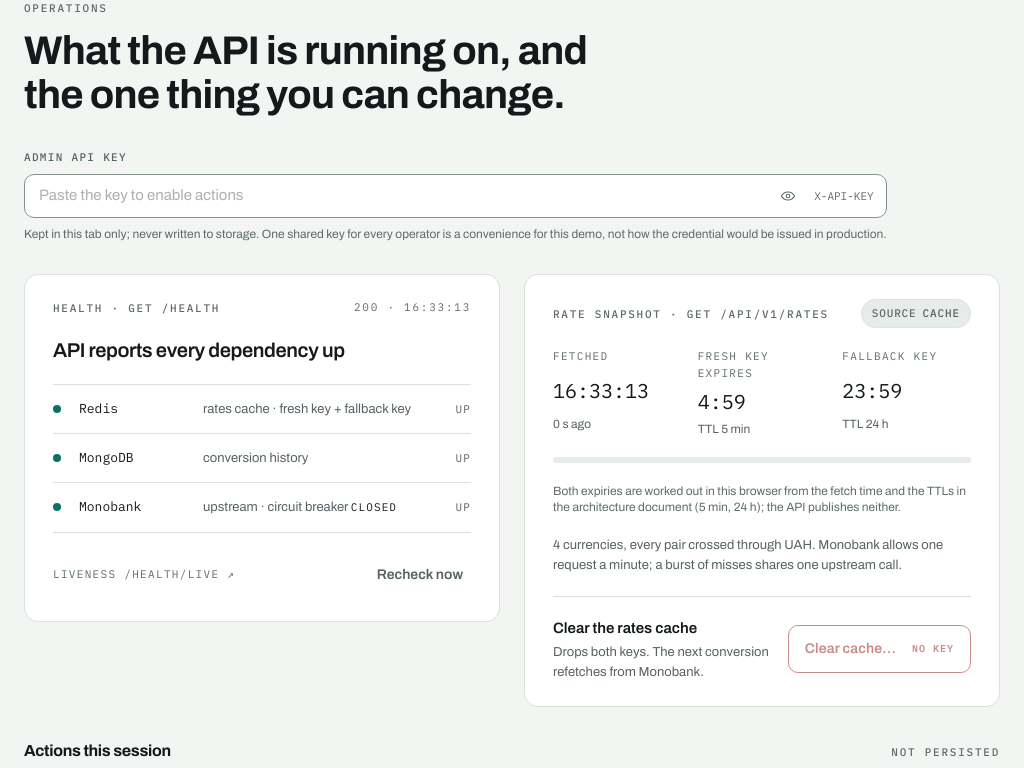
it: OpsPage clear-cache dialog › confirms before it sends, with focus on Cancel and the key masked
Type "super-secret-admin-key" into the password field labelled "Admin API key" at (401,196), box x1=39 y1=175 x2=762 y2=217
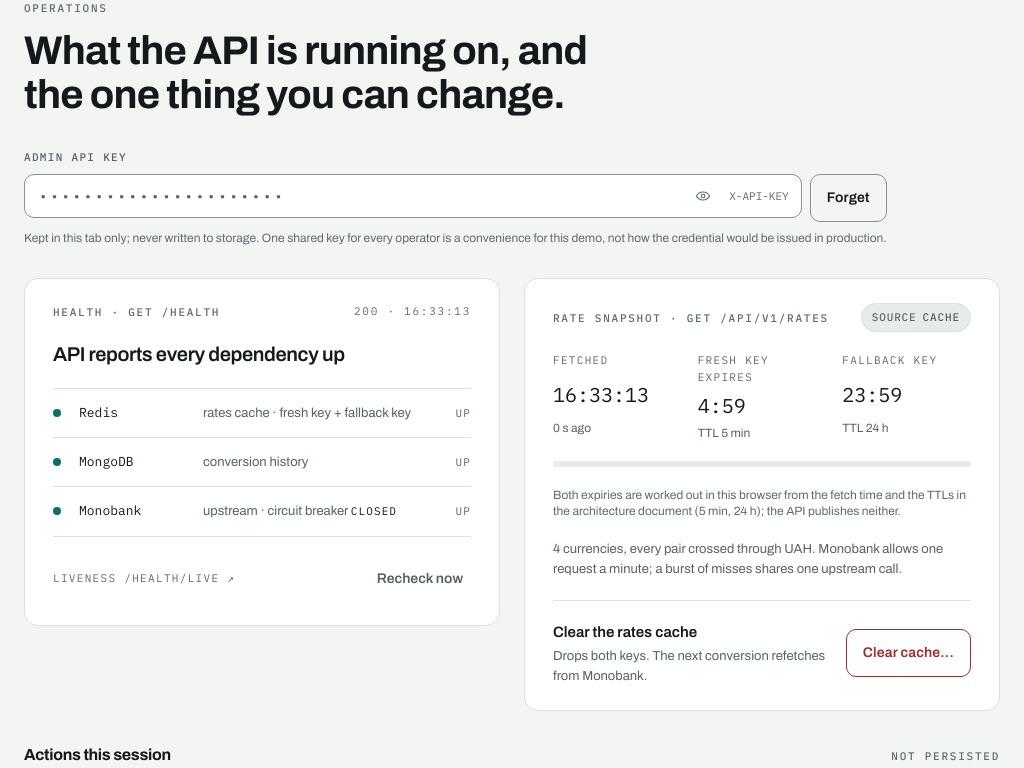
Click the button "Clear cache…" at (908,653), box x1=846 y1=629 x2=971 y2=677
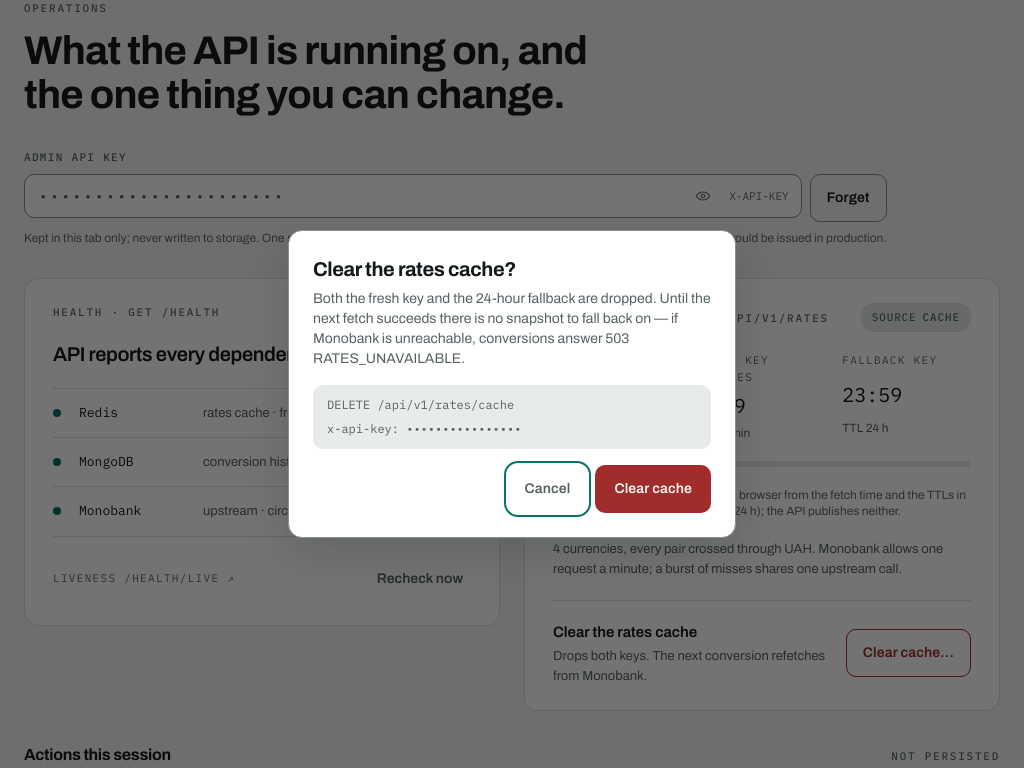
expect the text "DELETE /api/v1/rates/cache" is shown: met, box x1=327 y1=397 x2=514 y2=412
expect the text "x-api-key: ••••••••••••••••" is shown: met, box x1=327 y1=421 x2=521 y2=436
